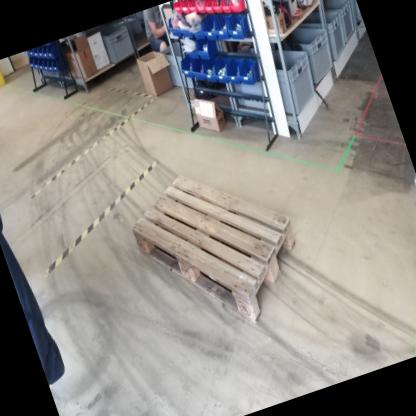BoxFace: (129, 167, 300, 331)
